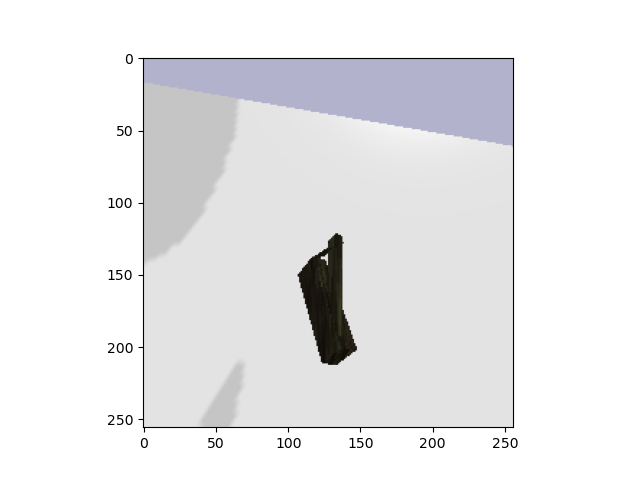v249b387_109: (276, 231, 377, 378)
